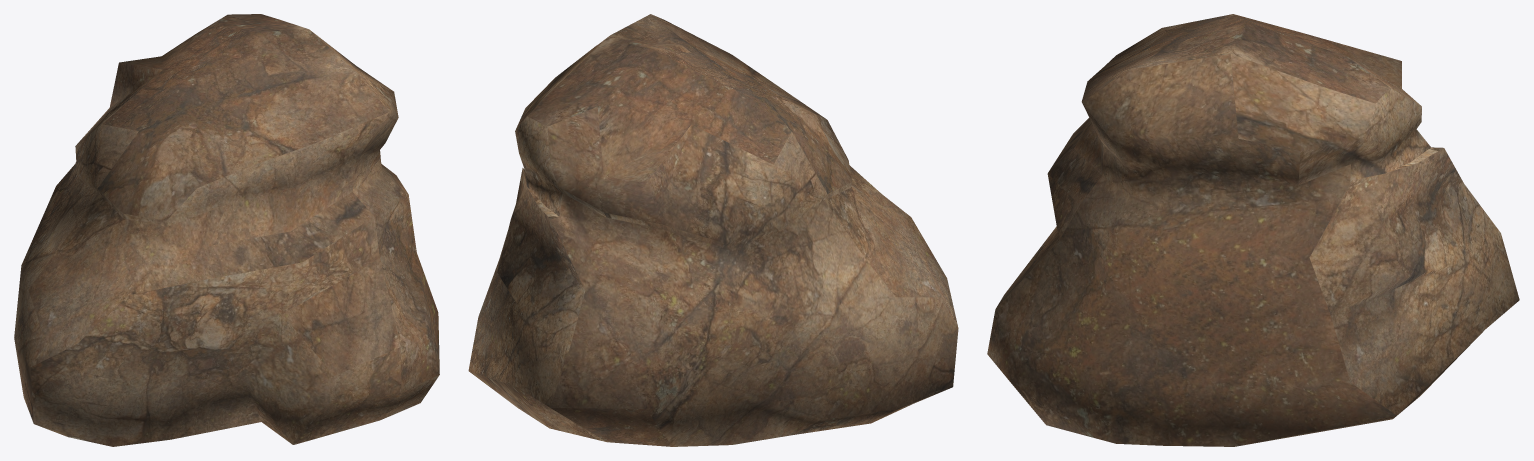
Rendered from Rock2.fbx.
3 views of the same model, side by side, from view 1: azimuth 30°, elevation 25°; view 2: azimuth 150°, elevation 25°; view 3: azimuth 270°, elevation 25° (orthographic). The views are drawn at different scales.
Parts seen in each view (by area): view 1: Rock2; view 2: Rock2; view 3: Rock2.
Boxes of the visible parts, box(x1,y1,x2,y2) form: Rock2: box(14, 14, 439, 446); Rock2: box(468, 14, 958, 446); Rock2: box(987, 14, 1519, 446).
Bounding box in the file's own units: 215 × 171 × 230.
1 material, 1 textured.
